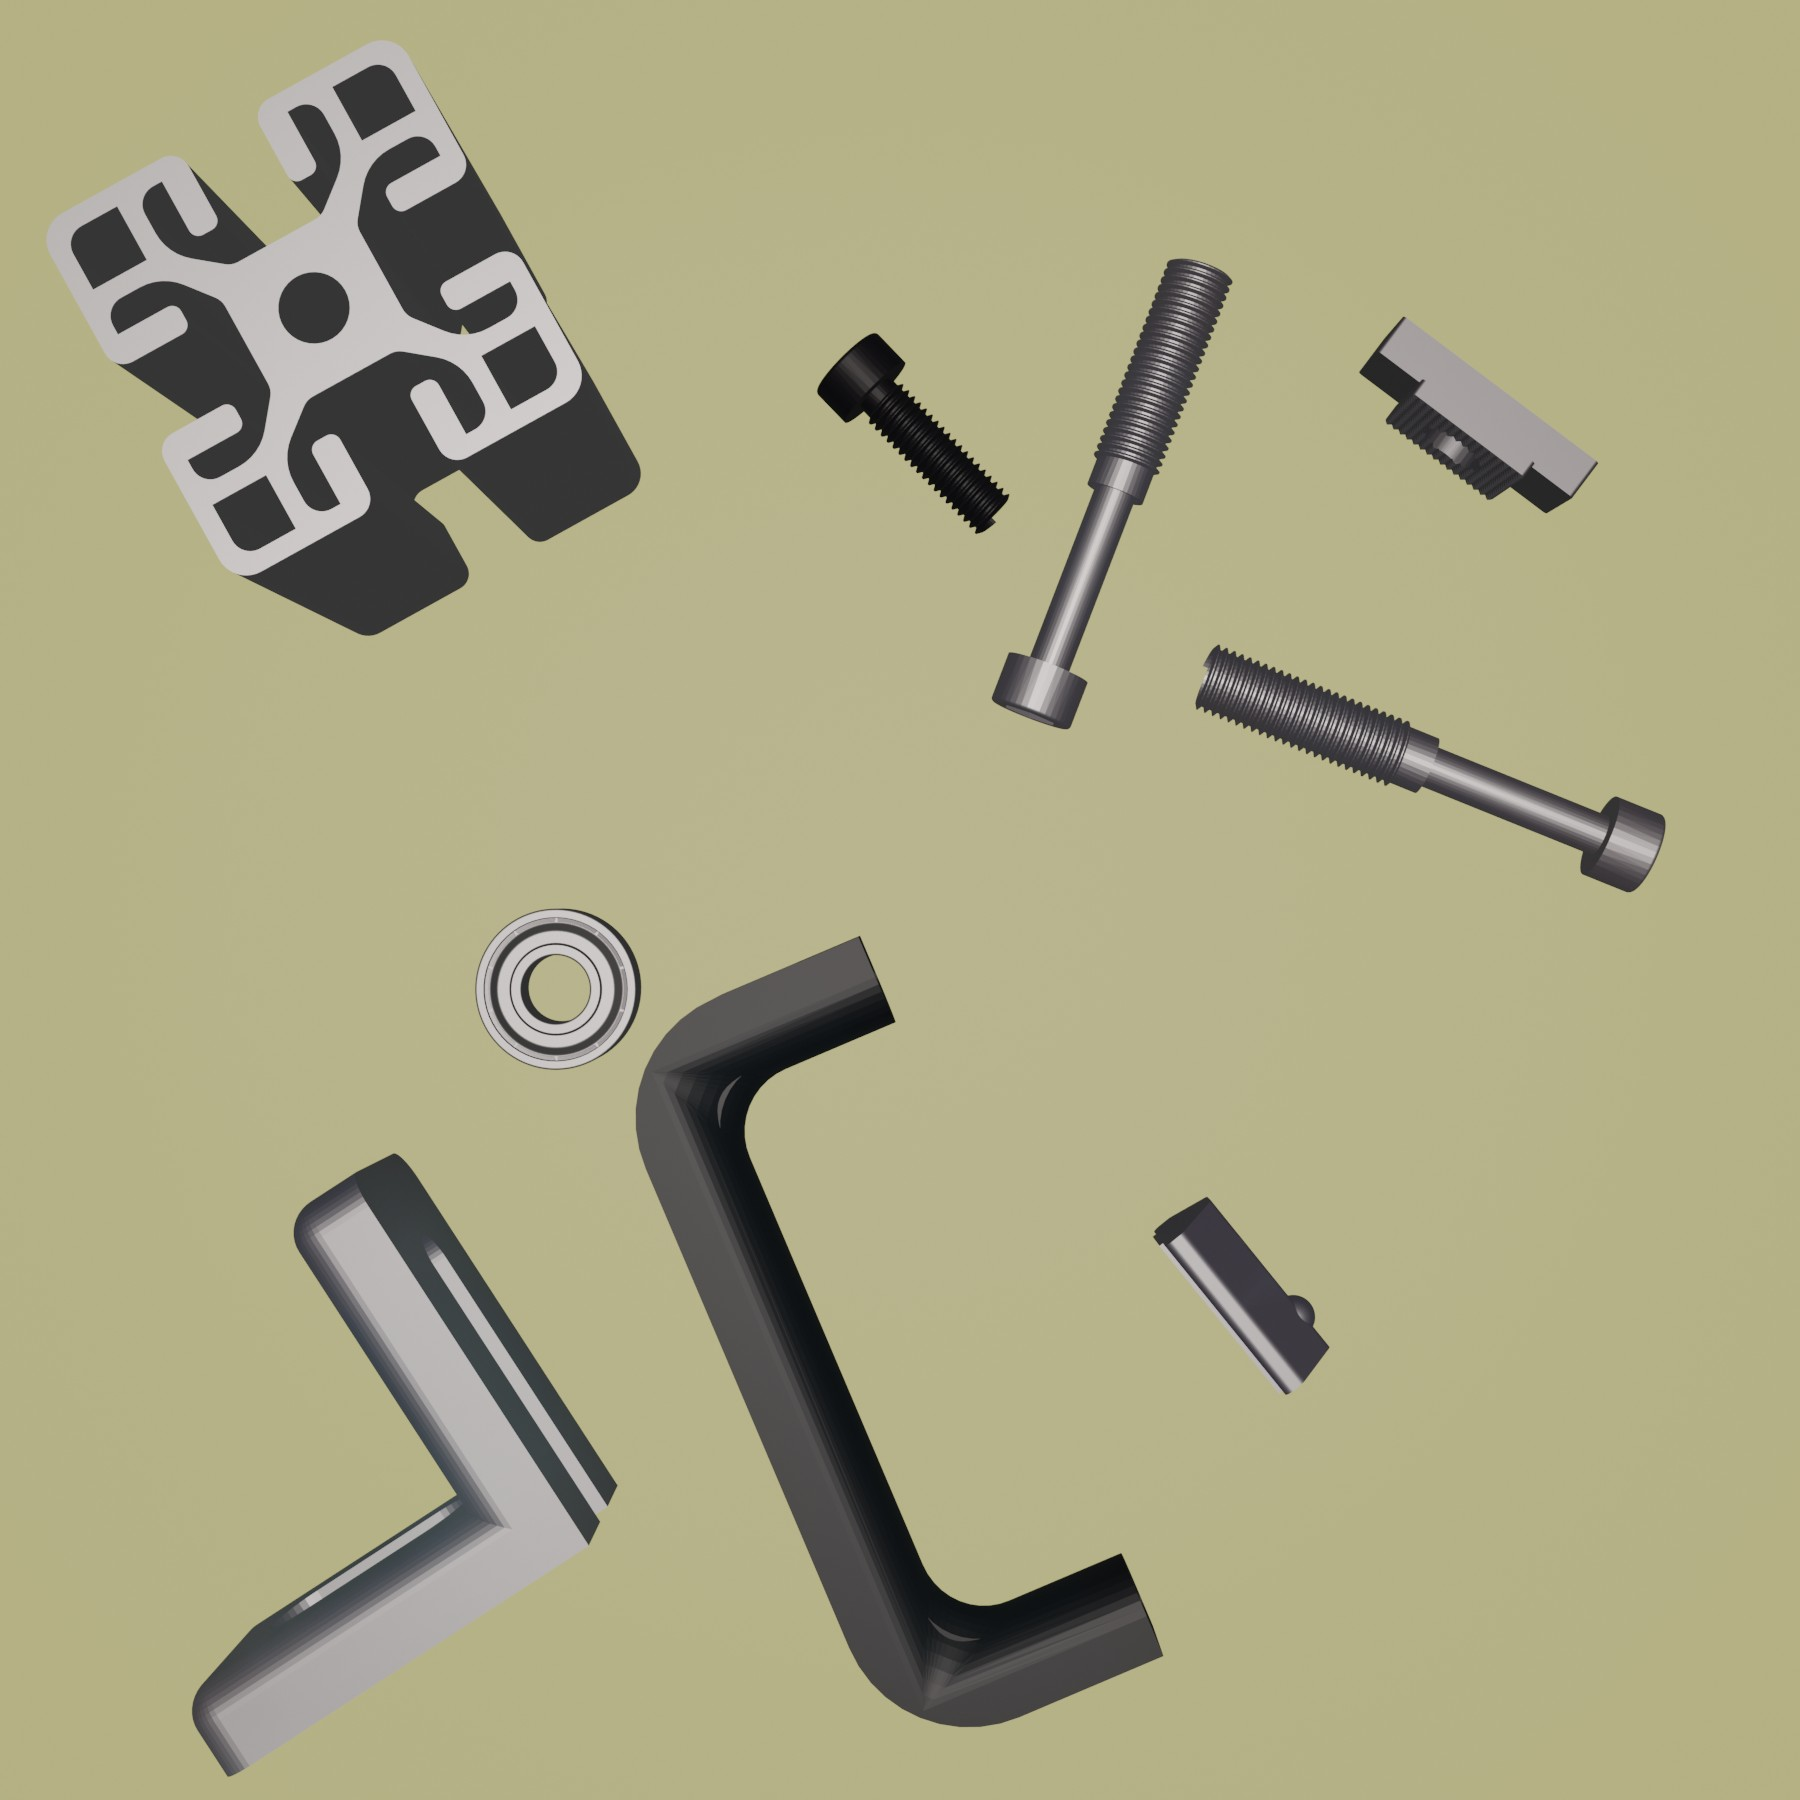Aluminium Extension: (46, 38, 643, 638)
Ball Bearing: (475, 903, 643, 1073)
Multiwinkel: (190, 1154, 620, 1777)
Pull Handle: (631, 931, 1165, 1727)
Shoulder Socket Head Cap Screw: (1190, 643, 1666, 897), (991, 257, 1235, 732)
Socket Head Cap Screw: (814, 330, 1010, 536)
T Nut Square: (1358, 313, 1601, 518)
T Spring Nut: (1151, 1192, 1332, 1395)
